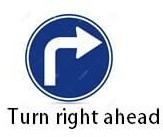Traffic signal: (23, 12, 114, 103)
